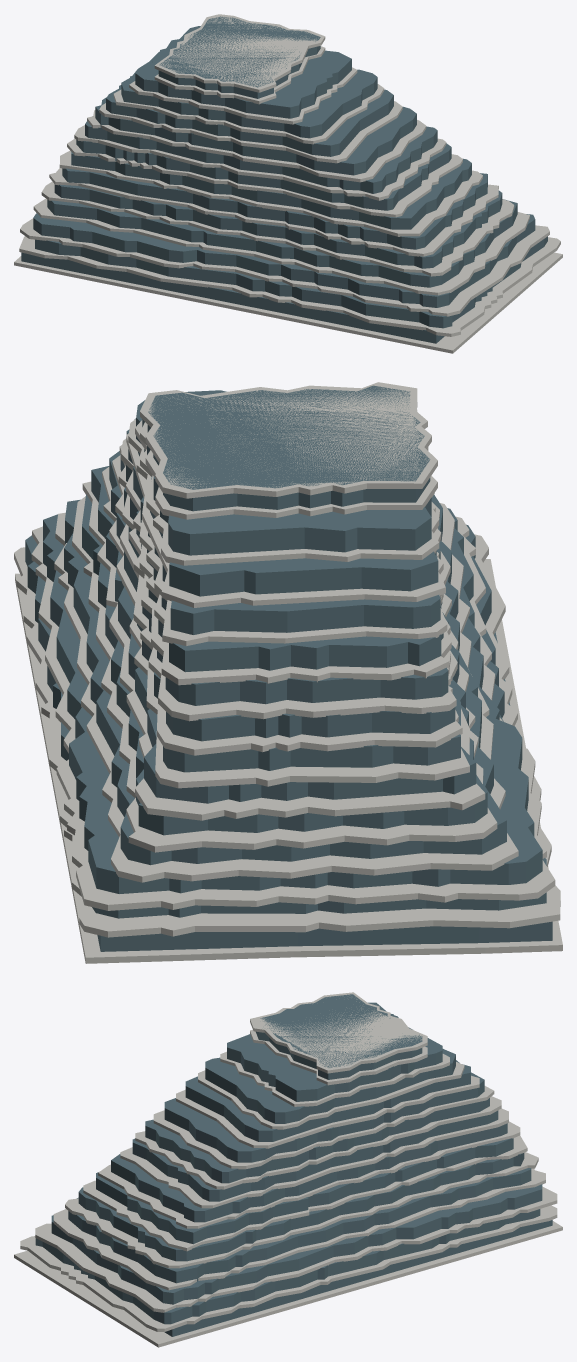
Rendered from kobe-harbor-hotel.glb.
3 views of the same model, one above another, from view 1: azimuth 30°, elevation 25°; view 2: azimuth 150°, elevation 25°; view 3: azimuth 270°, elevation 25° (orthographic). The views are drawn at different scales.
Bounding box in the file's own units: 133 × 59.8 × 148.
